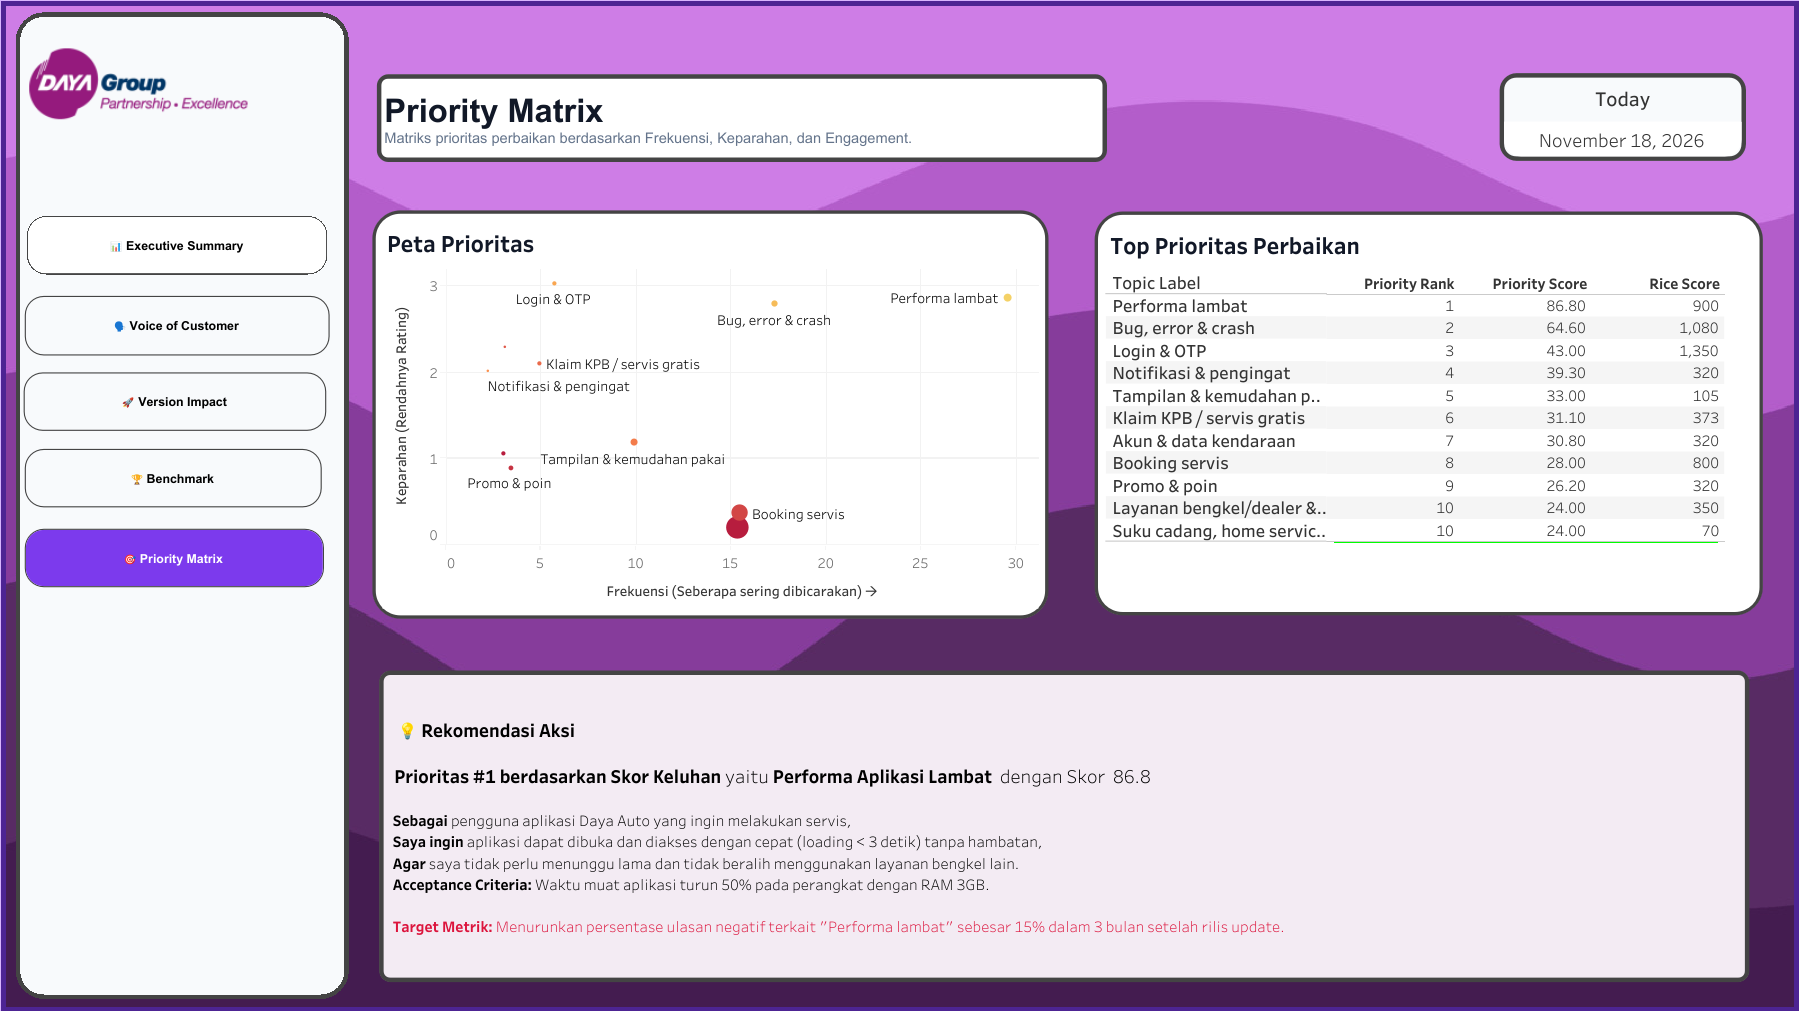

The page's visual inventory and layout, read from the dashboard file:
{"tool":"tableau","page":{"name":"Priority Matrix","canvas":[1600,900],"ordinal":2},"visuals":[{"type":"blank","box":[18.4,15.2,288,868.4]},{"type":"image","param":"C:/Users/hp/Downloads/LOGO-DAYA-GROUP-WEBSITE.png","box":[25.6,42.8,272,63]},{"type":"text","box":[335,66,649,78]},{"type":"worksheet","title":"Today Card","mark":"Automatic","box":[1337,69,211,70]},{"type":"worksheet","title":"Priority Matrix(buble)","mark":"Circle","rows":["severity"],"cols":["freq_pct"],"box":[334,190,595,357]},{"type":"worksheet","title":"Tabel Prioritas","mark":"Text","rows":["topic_label"],"box":[976,191,588,309]},{"type":"dashboard-object","box":[24,192.4,267.2,51.7]},{"type":"dashboard-object","box":[22,263,271,53]},{"type":"dashboard-object","box":[20.8,330.8,268.8,51.7]},{"type":"dashboard-object","box":[22.4,399.4,264,51.7]},{"type":"dashboard-object","box":[22.4,470.2,265.6,51.7]},{"type":"text","box":[333,592,1226,285]}]}

Visuals, with their boxes in screenshot pixels (x1, y1, x2, y2), scaled from the page's 1600x900 canvas onto the 1799x1011 screenshot:
blank: [21,17,345,993]
image: [29,48,335,119]
text: [377,74,1106,162]
"Today Card" worksheet: [1503,78,1741,156]
"Priority Matrix(buble)" worksheet (Circle marks): [376,213,1045,614]
"Tabel Prioritas" worksheet (Text marks): [1097,215,1759,562]
dashboard-object: [27,216,327,274]
dashboard-object: [25,295,329,355]
dashboard-object: [23,372,326,430]
dashboard-object: [25,449,322,507]
dashboard-object: [25,528,324,586]
text: [374,665,1753,985]
